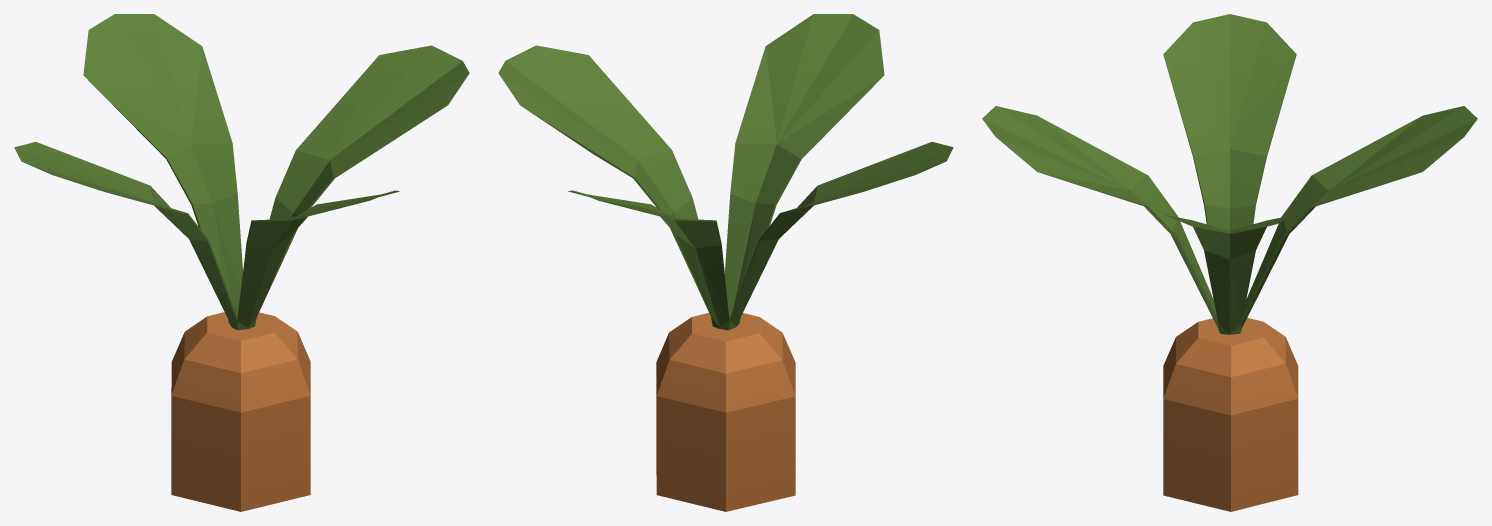
File: Crop_Carrot_STAGE_2_01.obj
3 renders of one model, left to right at view 1: azimuth 30°, elevation 25°; view 2: azimuth 150°, elevation 25°; view 3: azimuth 270°, elevation 25°, orthographic. The views are drawn at different scales.
Parts seen in each view (by area): view 1: Crop_Carrot_STAGE_2_01; view 2: Crop_Carrot_STAGE_2_01; view 3: Crop_Carrot_STAGE_2_01.
Part boxes in pixels (bbox=[...]): Crop_Carrot_STAGE_2_01: bbox=[14, 14, 469, 511]; Crop_Carrot_STAGE_2_01: bbox=[498, 14, 953, 511]; Crop_Carrot_STAGE_2_01: bbox=[982, 14, 1477, 511].
Bounding box in the file's own units: 0.3091 × 0.2479 × 0.3091.
Materials: 1 (1 with a texture image).
